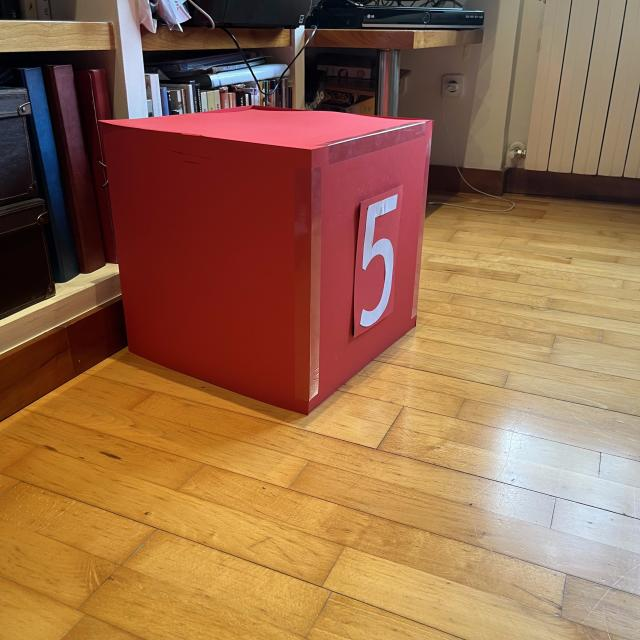box: (95, 102, 436, 416)
